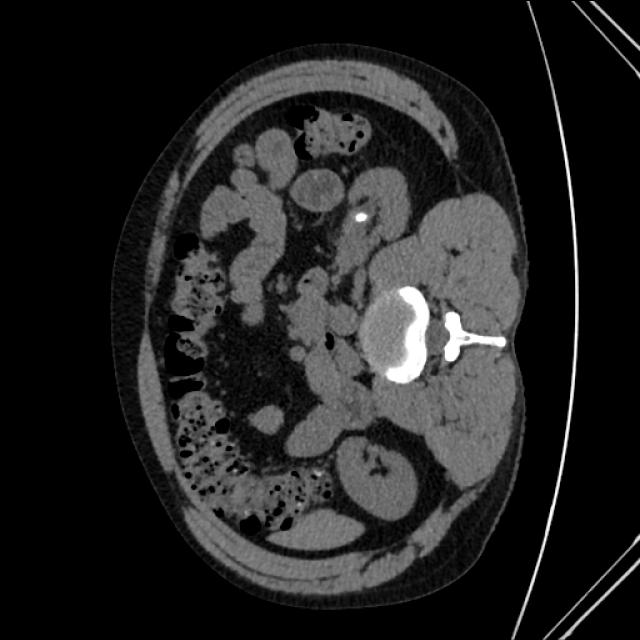kidneystone: (355, 212, 367, 220)
